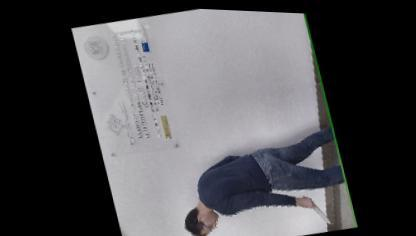knife: (297, 185, 330, 225)
